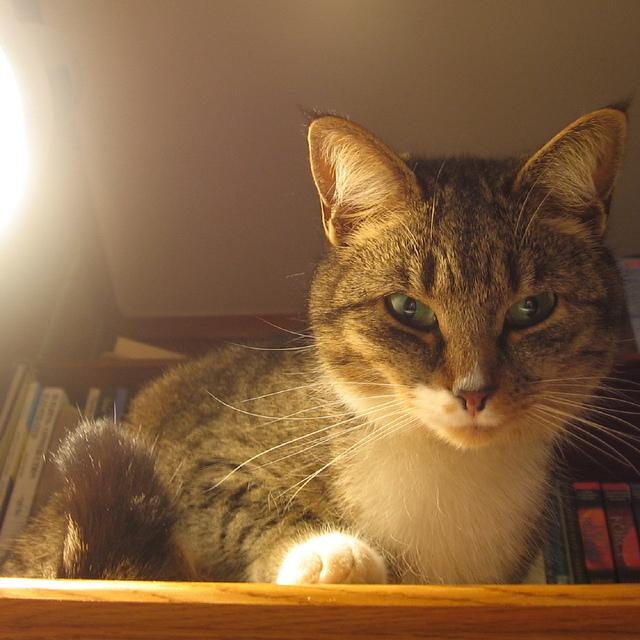animals: (316, 110, 615, 412)
